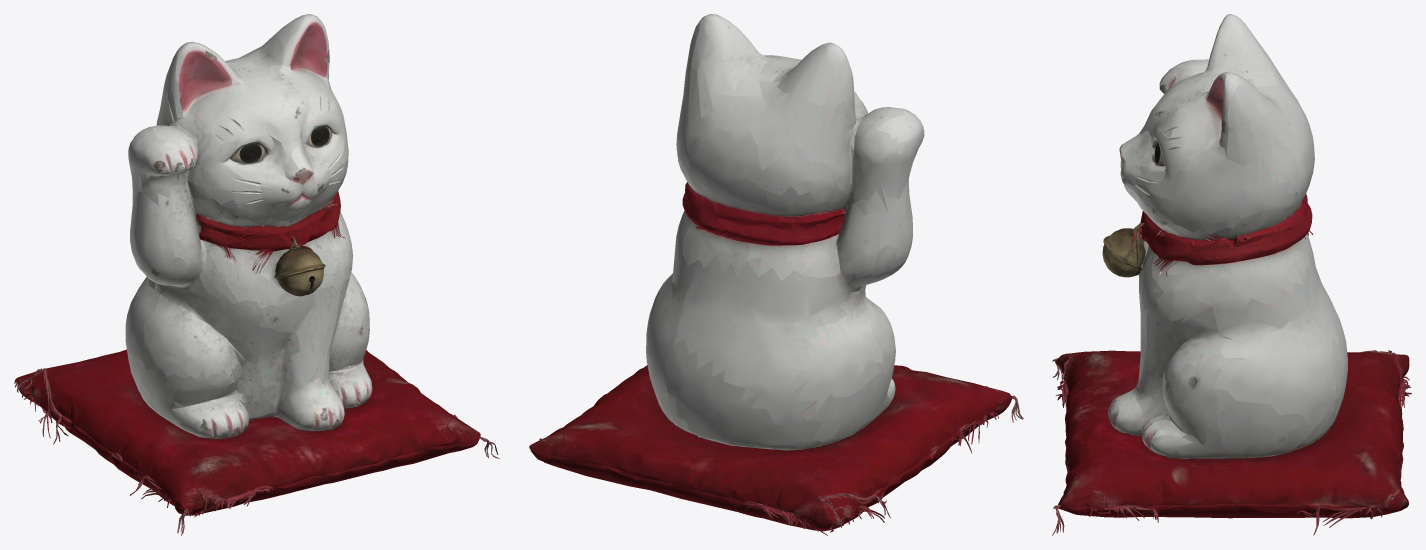
Rendered from milked-lucky-cat.glb.
3 renders of one model, left to right at view 1: azimuth 30°, elevation 25°; view 2: azimuth 150°, elevation 25°; view 3: azimuth 270°, elevation 25°, orthographic. The views are drawn at different scales.
Parts seen in each view (by area): view 1: output_unwrapped; view 2: output_unwrapped; view 3: output_unwrapped.
Boxes of the visible parts, x1,y1,x2,y2 form: output_unwrapped: (14, 14, 499, 535); output_unwrapped: (529, 14, 1023, 535); output_unwrapped: (1052, 14, 1411, 535).
Size of the model in its own units: 1.56 by 1.9 by 1.5.
1 material, 1 textured.
